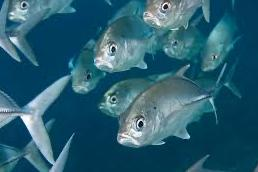Carangidae -Jacks-: (111, 58, 226, 149), (90, 9, 155, 73)
